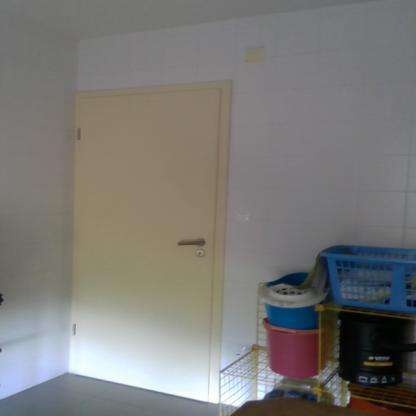door: (76, 98, 212, 397)
hinged: (72, 321, 78, 337), (76, 127, 82, 140)
lever: (176, 240, 207, 247)
